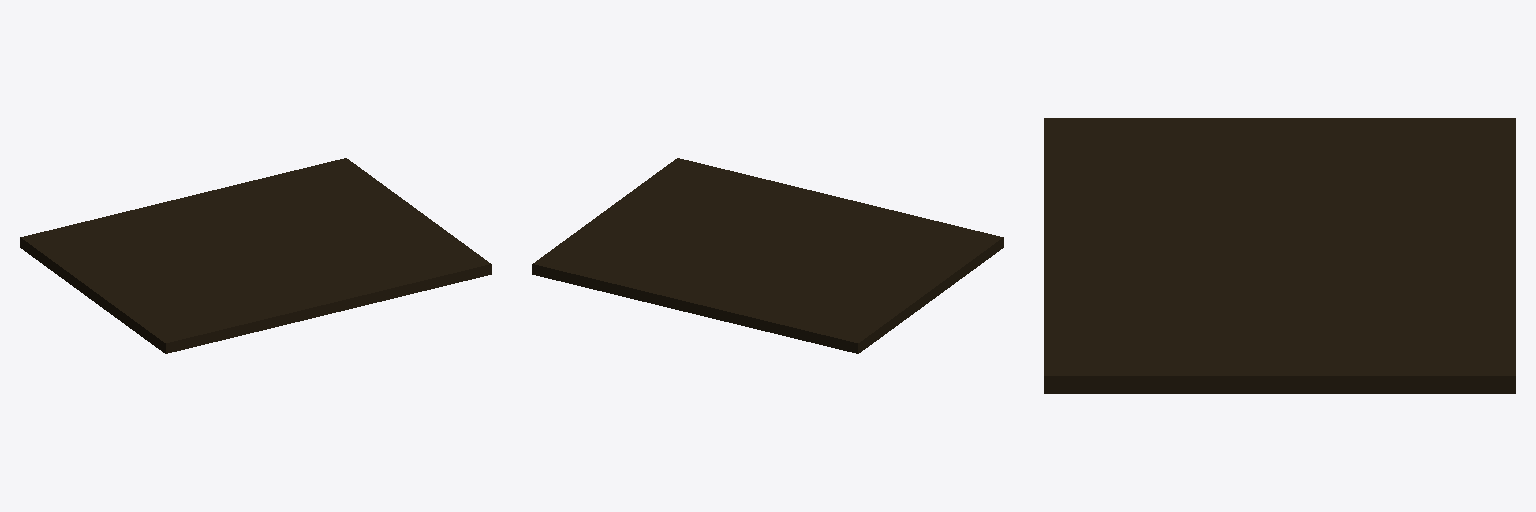
URDF robot description (folding_table):
<?xml version="1.0"?>
<robot name="folding_table">
  <link name="table_surface_center"/>
  <link name="table_top">
    <inertial>
      <mass value="1.0" />
      <inertia ixx="0.0225" ixy="0" ixz="0" iyy="0.0225" iyz="0" izz="0.0450" />
    </inertial>
    <visual>
      <geometry>
        <box size="0.48 0.37 0.015"/>
      </geometry>
      <material name="DarkBrown">
        <color rgba="0.2 0.165 0.110 1.0"/>
      </material>
    </visual>
    <collision group="tables">
      <geometry>
        <box size="0.48 0.37 0.015"/>
      </geometry>
    </collision>
   </link>
   <joint name="table_top_joint" type="fixed">
     <origin xyz="0 0 -0.0075"/>
     <parent link="table_surface_center"/>
     <child link="table_top"/>
   </joint>
</robot>

--- Facts derived from the render (not from the file) ---
The picture shows the robot from 3 angles, left to right: view 1: azimuth 30°, elevation 25°; view 2: azimuth 150°, elevation 25°; view 3: azimuth 270°, elevation 25°; orthographic projection.
Robot: folding_table — 2 links, 1 joints (1 fixed); root link table_surface_center; default pose: all joints at 0.
Links seen in each view (by area): view 1: table_top; view 2: table_top; view 3: table_top.
Link boxes in pixels (x1,y1,x2,y2): table_top: (20, 158, 491, 353); table_top: (532, 158, 1003, 353); table_top: (1044, 118, 1515, 393).
Size in the robot's own frame: 0.48 by 0.37 by 0.015 metres.
Geometry: primitives only (box / cylinder / sphere), no mesh files.